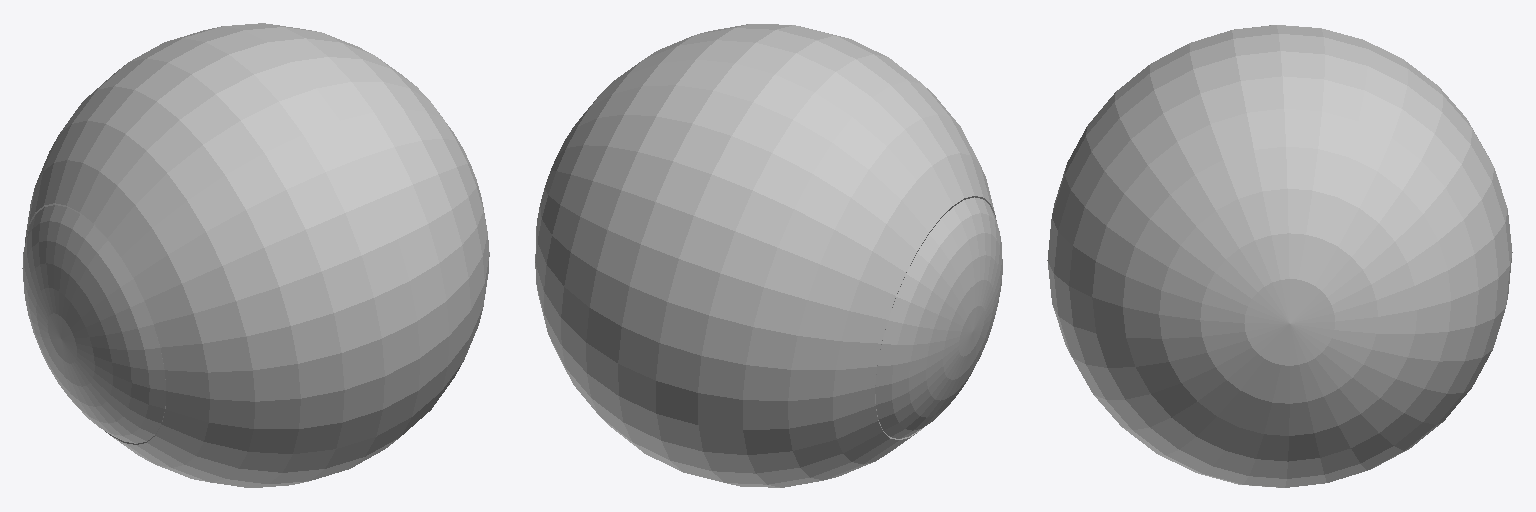
The model's file is ojoRobot.obj.
3 views of the same model, side by side, from view 1: azimuth 30°, elevation 25°; view 2: azimuth 150°, elevation 25°; view 3: azimuth 270°, elevation 25° (orthographic).
Parts seen in each view (by area): view 1: iball; view 2: iball; view 3: iball.
Boxes of the visible parts, x1=… form: iball: x1=22, y1=23, x2=489, y2=487; iball: x1=535, y1=24, x2=1002, y2=487; iball: x1=1047, y1=25, x2=1512, y2=487.
Bounding box in the file's own units: 75.37 × 75.01 × 75.05.